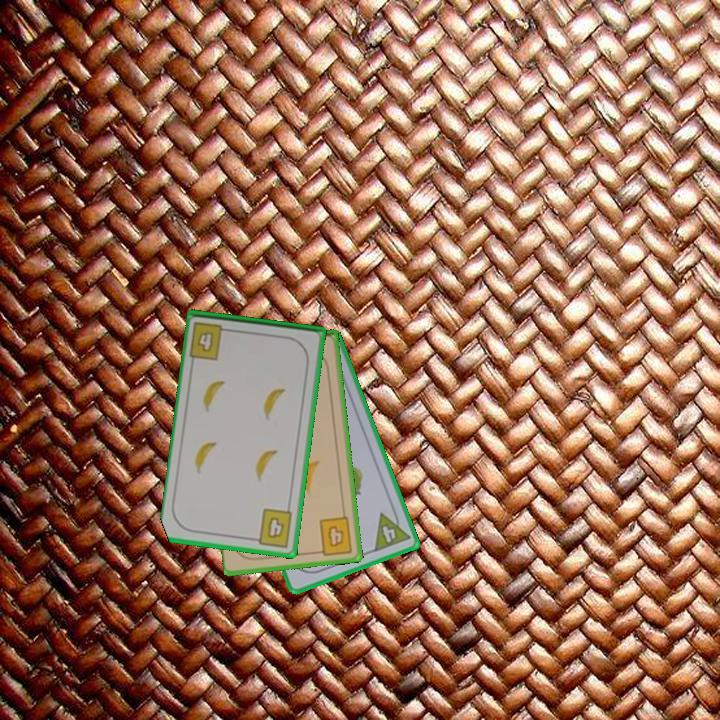4b: (186, 318, 235, 363), (249, 505, 295, 550), (313, 513, 355, 558)
4p: (370, 505, 413, 555)
